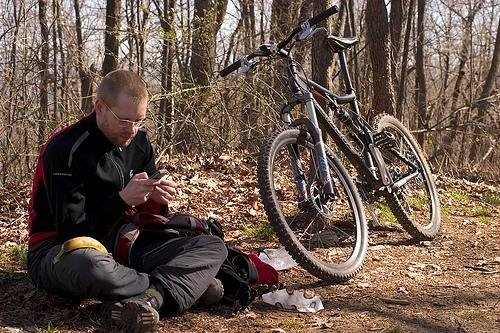bicycle: (220, 10, 447, 285)
